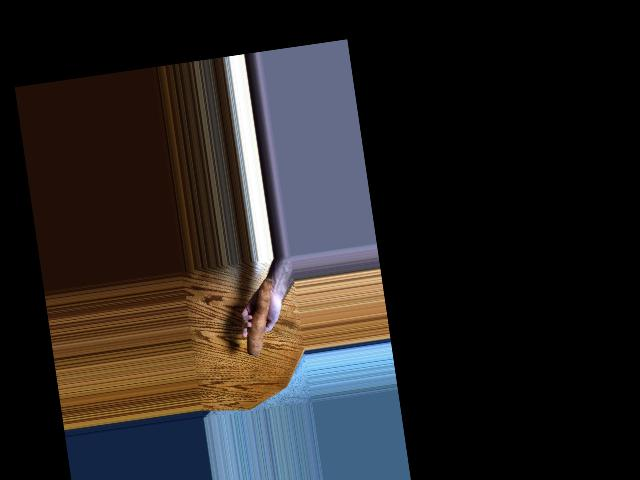sweet_potato: (236, 279, 282, 358)
